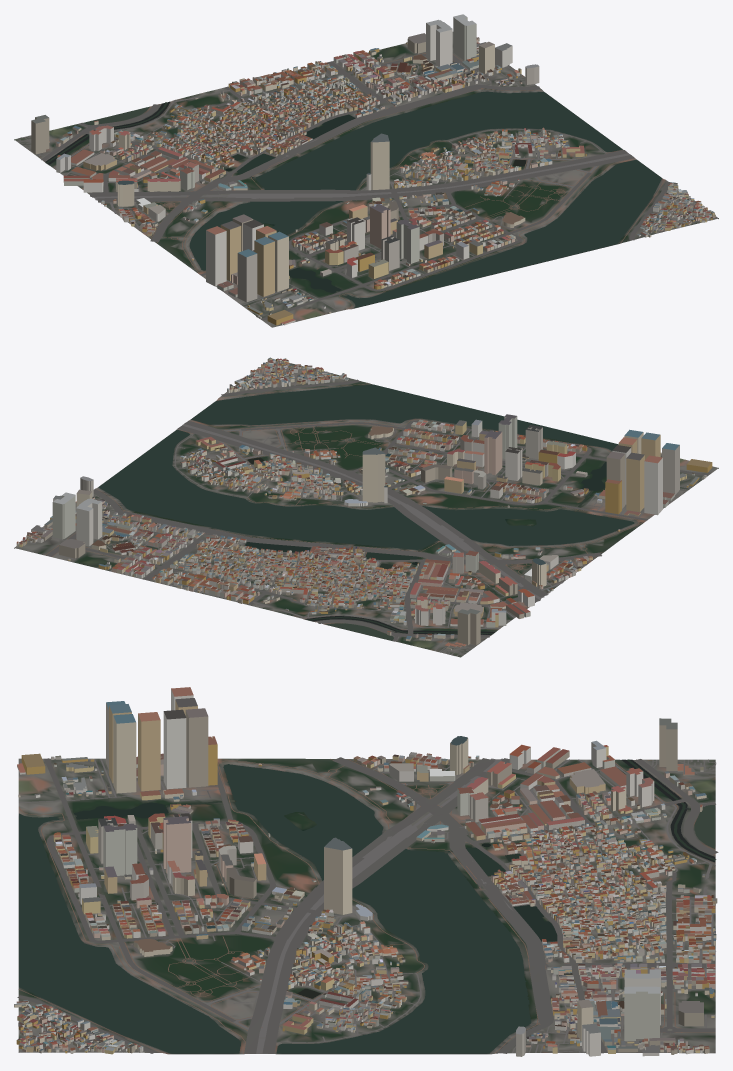
The picture shows the model from 3 angles, top to bottom: view 1: azimuth 30°, elevation 25°; view 2: azimuth 150°, elevation 25°; view 3: azimuth 270°, elevation 25°; orthographic projection. The views are drawn at different scales.
Parts seen in each view (by area): view 1: buildings, ground, water, roads; view 2: buildings, ground, water, roads; view 3: buildings, ground, water, roads.
Part boxes in pixels (bbox=[...]): buildings: bbox=[31, 14, 715, 325]; ground: bbox=[14, 32, 718, 327]; water: bbox=[45, 91, 661, 308]; roads: bbox=[17, 46, 718, 320]; buildings: bbox=[16, 357, 712, 650]; ground: bbox=[14, 359, 718, 657]; water: bbox=[98, 384, 634, 640]; roads: bbox=[27, 362, 708, 656]; buildings: bbox=[14, 687, 717, 1056]; ground: bbox=[18, 758, 715, 1054]; water: bbox=[19, 759, 716, 1053]; roads: bbox=[17, 757, 718, 1053].
Size of the model in its own units: 1449 by 161 by 1418.
